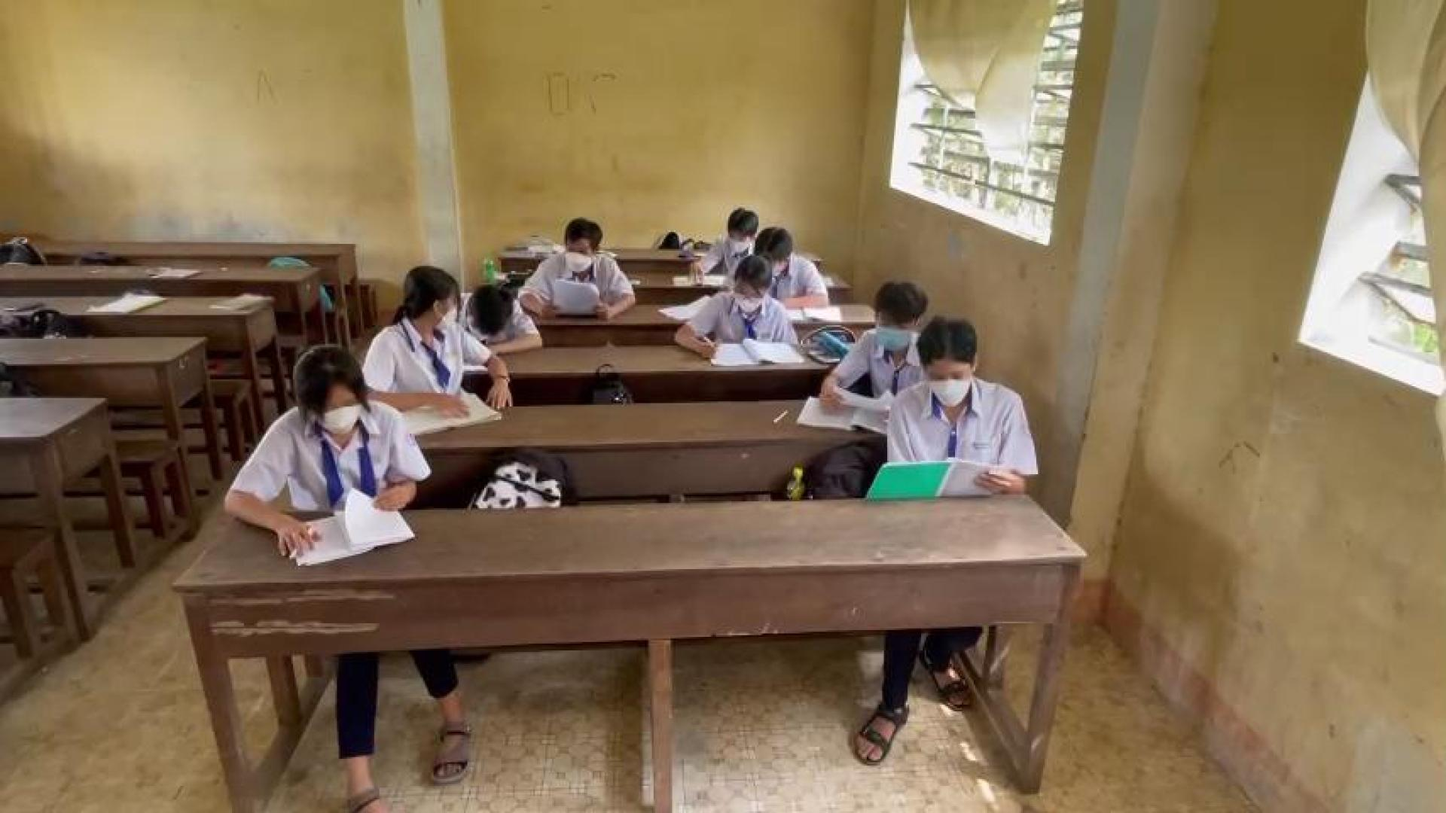Hand Under Table: (760, 300, 799, 349)
Look Around: (388, 257, 464, 344)
